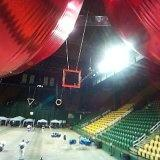Orange_Square_GShape: (62, 70, 82, 88)
Yellow_Circle_GShape: (56, 98, 62, 106)
Yellow_Triangle_Gshape: (26, 98, 35, 106)
